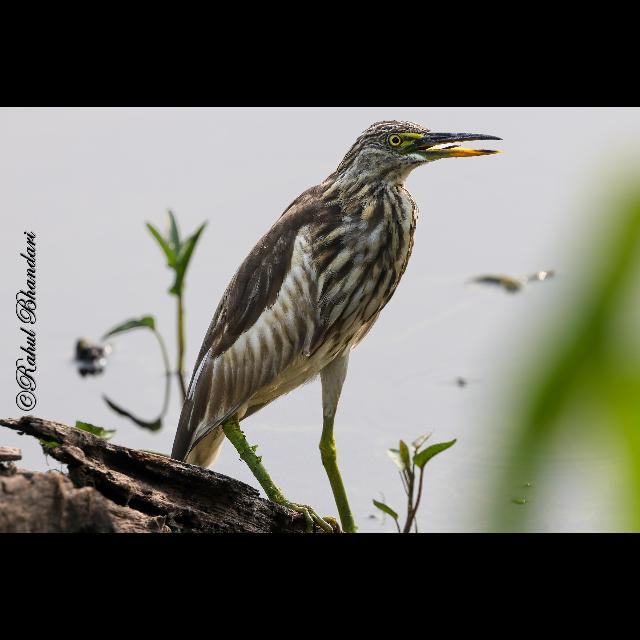heron: (170, 118, 516, 534)
